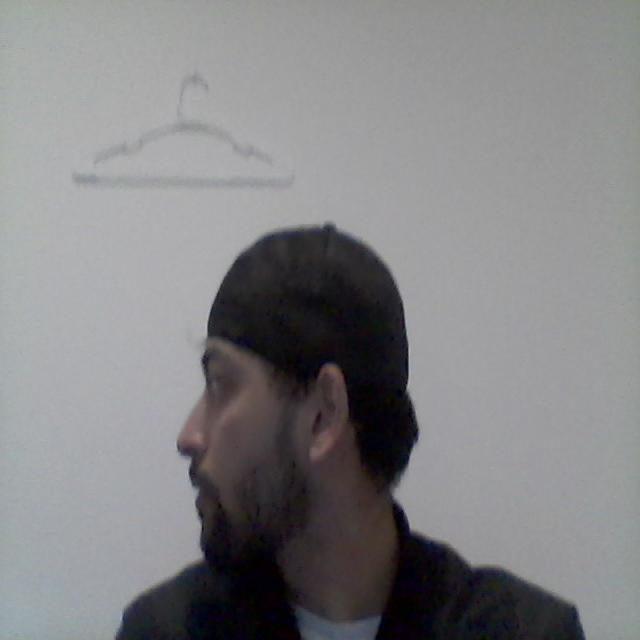cap: (167, 180, 444, 428)
